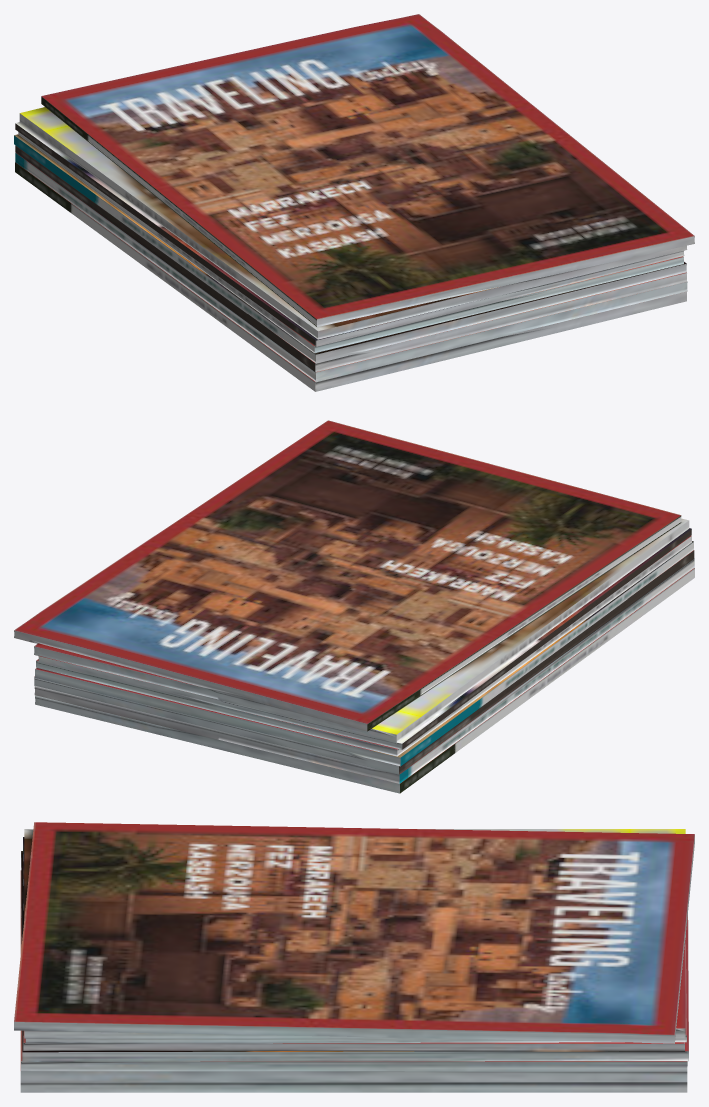
File: pileRevues.obj
3 views of the same model, one above another, from view 1: azimuth 30°, elevation 25°; view 2: azimuth 150°, elevation 25°; view 3: azimuth 270°, elevation 25° (orthographic). The views are drawn at different scales.
Visible parts, largest first — view 1: Revue_Cube.001; view 2: Revue_Cube.001; view 3: Revue_Cube.001.
Boxes of the visible parts, <box> form: Revue_Cube.001: <box>14,14,694,391</box>; Revue_Cube.001: <box>14,420,694,793</box>; Revue_Cube.001: <box>14,822,694,1092</box>.
Bounding box in the file's own units: 21.5 × 3.4 × 28.61.
Materials: 1 (1 with a texture image).
